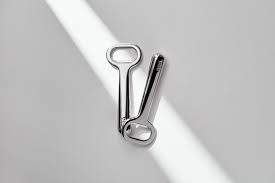bottleopener: (123, 54, 164, 146), (107, 44, 142, 135)
